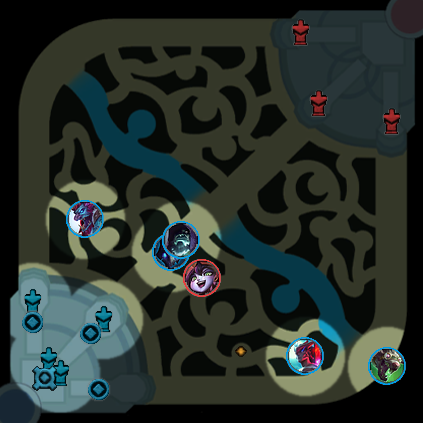Kindred: (152, 233, 190, 271)
Lulu: (183, 259, 221, 297)
Trundle: (66, 200, 104, 238)
Twitch: (368, 347, 406, 385)
Yone: (286, 337, 324, 375)
Yorick: (162, 221, 200, 259)
